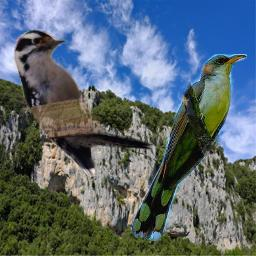Cuckoo: (132, 54, 247, 241)
Woodpecker: (14, 30, 152, 177)
